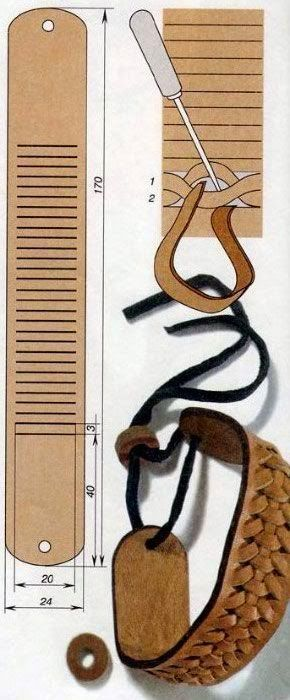cuero: (111, 408, 290, 685)
